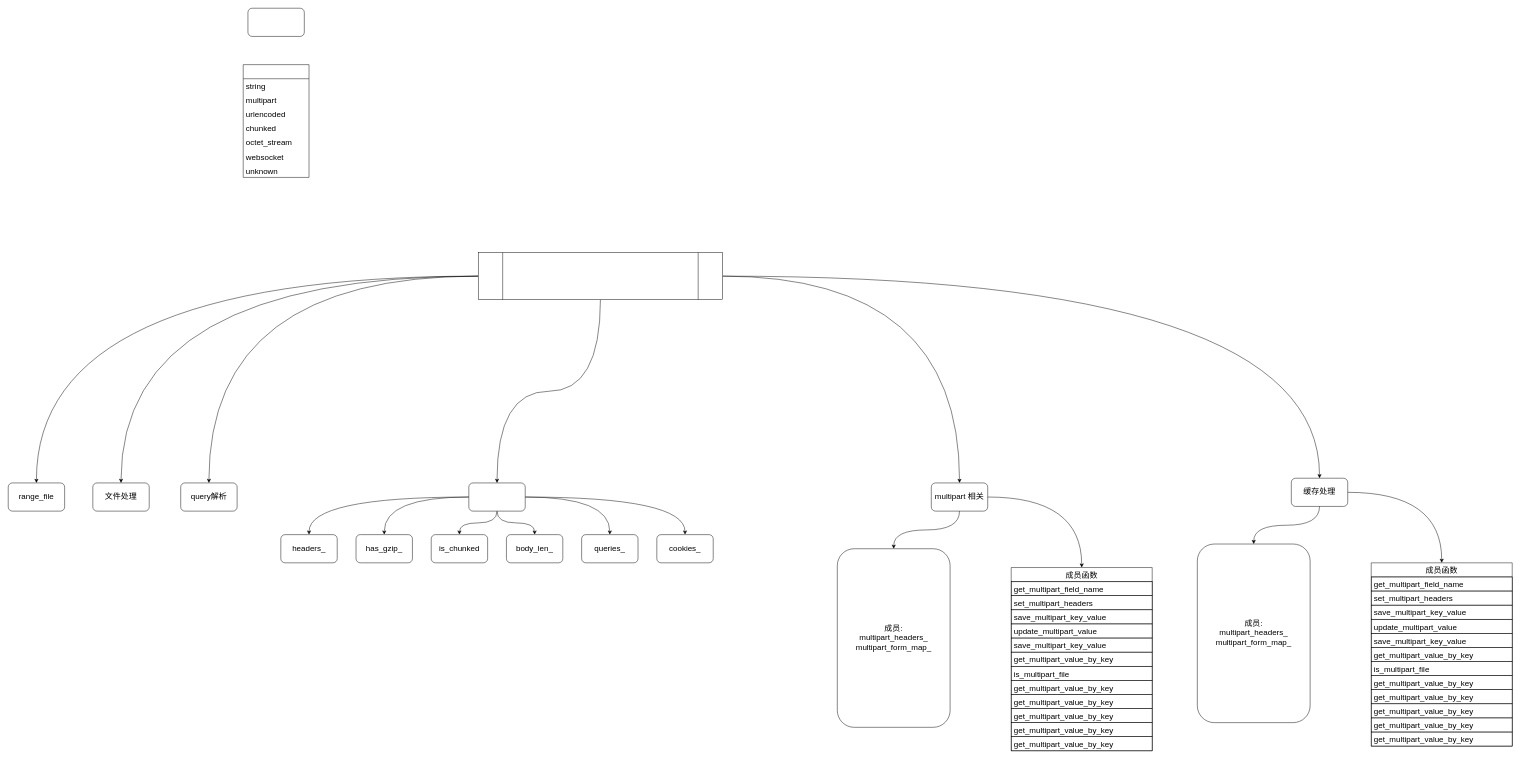
The diagram is 1520 pixels wide and 759 high, and some of its shapes have lost their labels. Here are the shapes that lost their labels. From the top down, the box of each, then its label:
(247, 8, 304, 36): state_
(243, 64, 309, 177): content_type
(478, 252, 723, 300): request.hpp
(468, 482, 525, 511): parse_header
